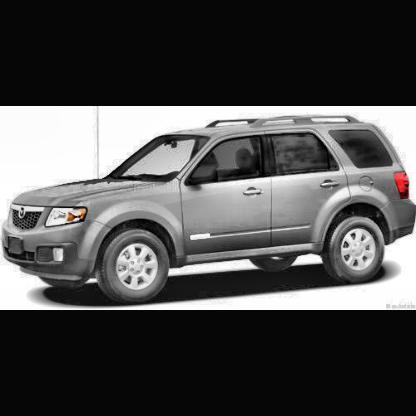Mazda Tribute SUV 2011: (2, 111, 416, 305)
